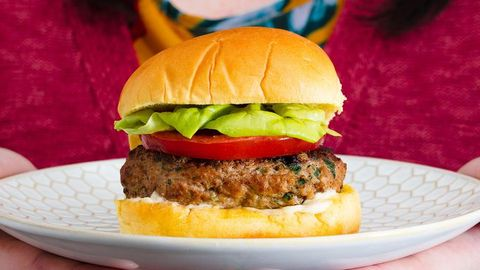hamburger_buns: (104, 20, 356, 116)
